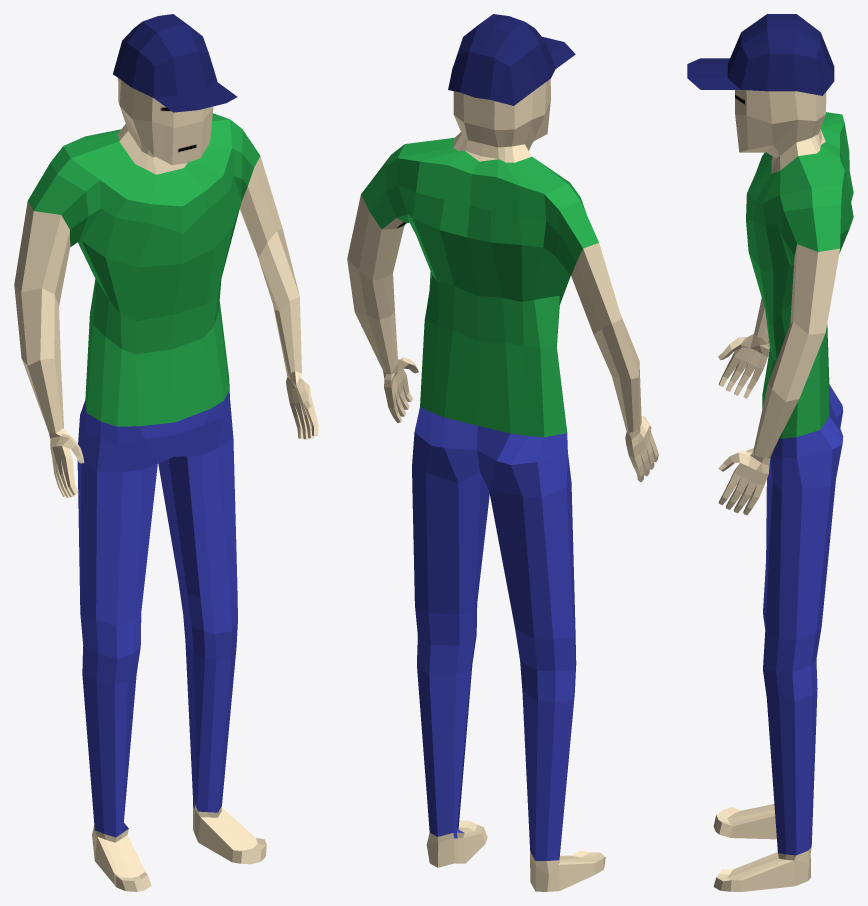
File: character.obj
3 renders of one model, left to right at view 1: azimuth 30°, elevation 25°; view 2: azimuth 150°, elevation 25°; view 3: azimuth 270°, elevation 25°, orthographic. The views are drawn at different scales.
Parts seen in each view (by area): view 1: Person_Cube.003; view 2: Person_Cube.003; view 3: Person_Cube.003.
Part boxes in pixels (x1,y1,x2,y2): Person_Cube.003: (14, 14, 318, 891); Person_Cube.003: (347, 14, 658, 891); Person_Cube.003: (687, 14, 853, 891).
Size of the model in its own units: 4.04 by 11.83 by 2.13.
